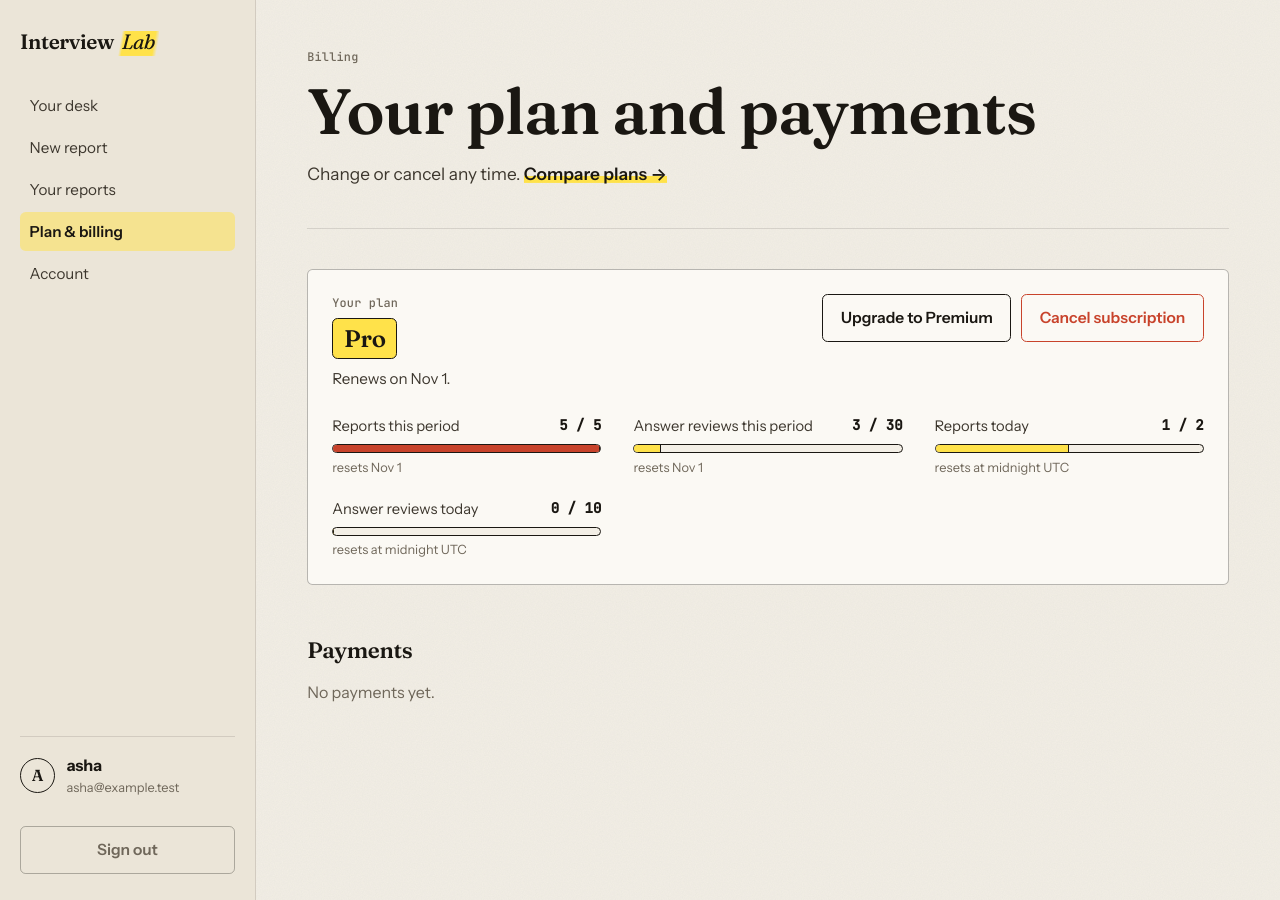
Test case: Billing page › lets an active subscriber cancel at the end of the period
Expected: the text "Renews on Nov 1." is shown, [332, 368, 450, 391]
Expected: the button "Upgrade to Premium" is shown, [822, 294, 1012, 342]
Click the button "Cancel subscription": (1112,318) [1021, 294, 1204, 342]
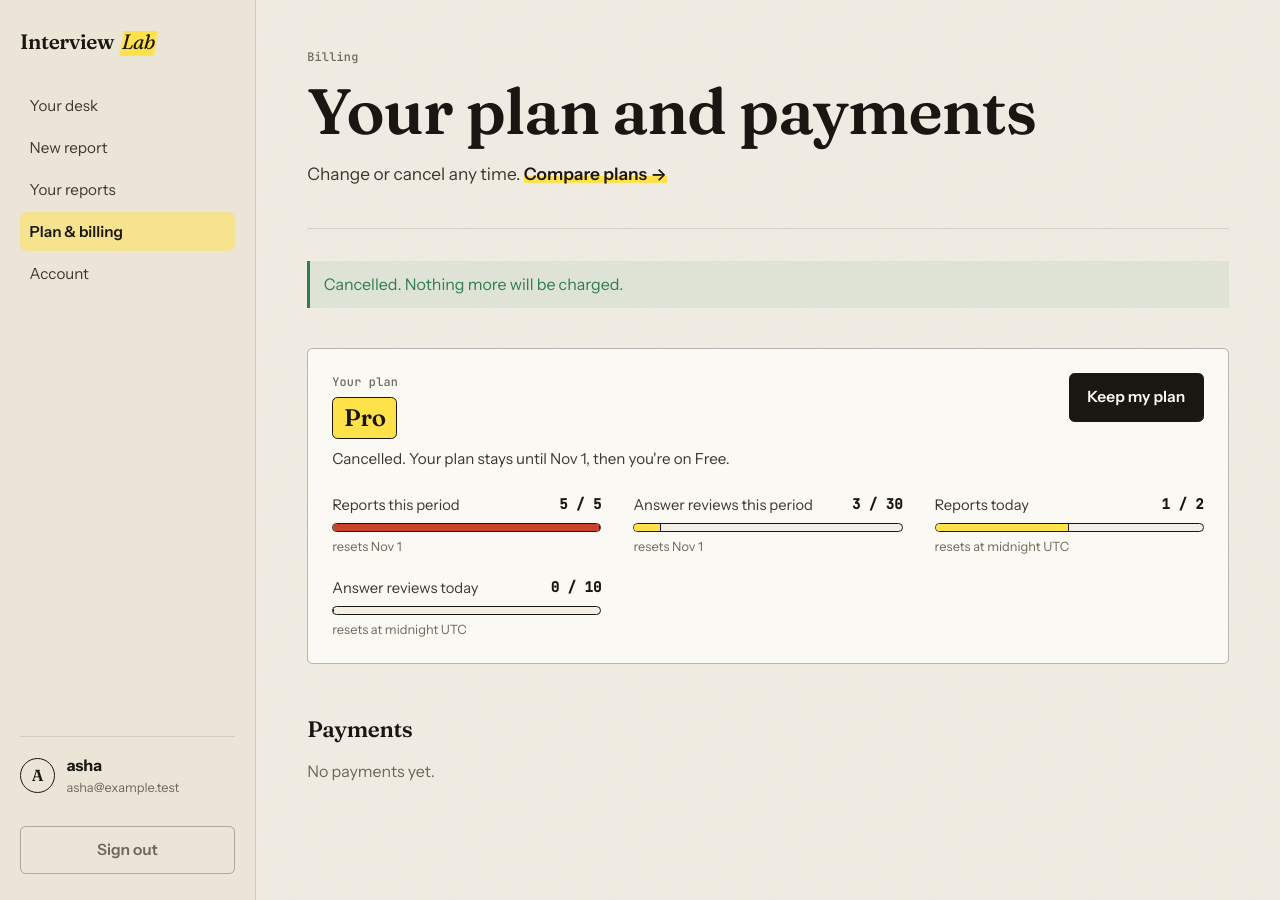
Expected: the message shows "Cancelled. Nothing more will be charged", [324, 274, 624, 294]
Expected: the button "Keep my plan" is shown, [1069, 373, 1204, 422]
